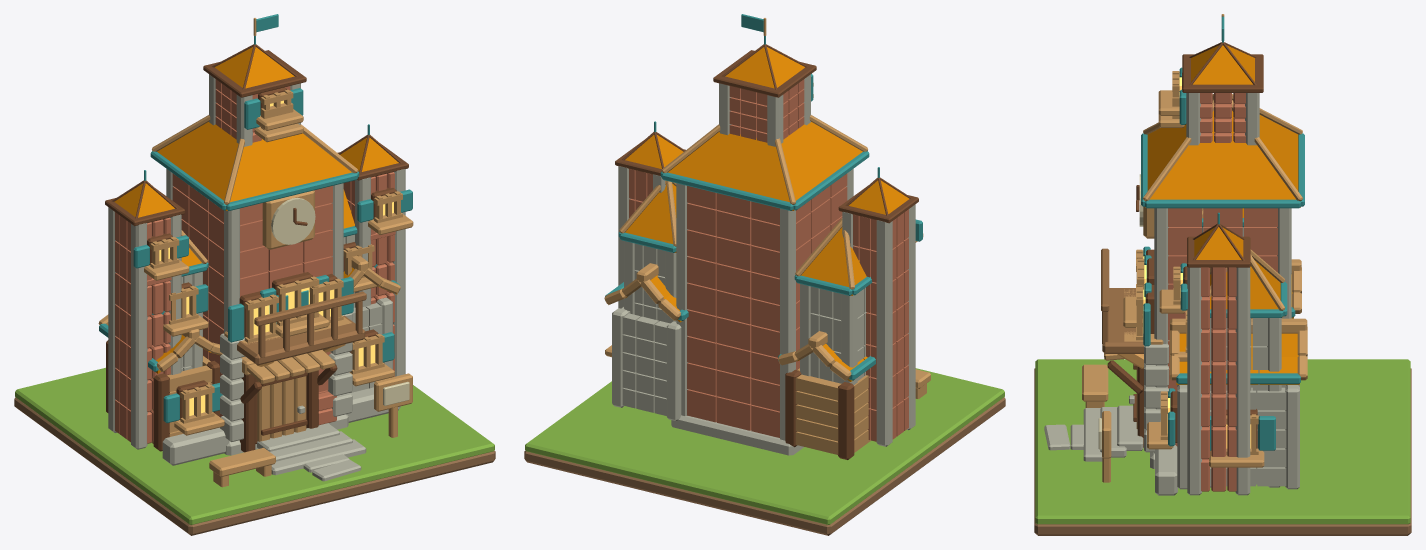
File: town_hall_l10_active_LOD0.glb
3 renders of one model, left to right at view 1: azimuth 30°, elevation 25°; view 2: azimuth 150°, elevation 25°; view 3: azimuth 270°, elevation 25°, orthographic. The views are drawn at different scales.
Visible parts, largest first — view 1: town_hall_l10_active_grass_tile, town_hall_l10_active_earth_tile, town_hall_l10_active_corner_reinforcement.024, town_hall_l10_active_hip_roof_shingle.002, town_hall_l10_active_hip_roof_shingle.011, town_hall_l10_active_premium_balcony_floor, town_hall_l10_active_corner_reinforcement.030, town_hall_l10_active_central_spire_roof_shingle, town_hall_l10_active_stone_foundation_course, town_hall_l10_active_corner_reinforcement, town_hall_l10_active_clock_face, town_hall_l10_active_corner_reinforcement.025 (+36 smaller); view 2: town_hall_l10_active_grass_tile, town_hall_l10_active_earth_tile, town_hall_l10_active_corner_reinforcement.025, town_hall_l10_active_hip_roof_shingle.008, town_hall_l10_active_corner_reinforcement.001, town_hall_l10_active_hip_roof_shingle.011, town_hall_l10_active_corner_reinforcement.003, town_hall_l10_active_foundation, town_hall_l10_active_central_spire_roof_shingle, town_hall_l10_active_hip_roof_shingle.007, town_hall_l10_active_corner_reinforcement.024, town_hall_l10_active_corner_reinforcement.009 (+50 smaller); view 3: town_hall_l10_active_grass_tile, town_hall_l10_active_earth_tile, town_hall_l10_active_hip_roof_shingle.005, town_hall_l10_active_corner_reinforcement.031, town_hall_l10_active_corner_reinforcement.030, town_hall_l10_active_hip_roof_shingle.004, town_hall_l10_active_central_spire_roof_shingle, town_hall_l10_active_corner_reinforcement.002, town_hall_l10_active_premium_balcony_floor, town_hall_l10_active_eave_trim.001, town_hall_l10_active_corner_reinforcement.011, town_hall_l10_active_central_spire_cornice (+46 smaller).
Part boxes in pixels (<box>): town_hall_l10_active_grass_tile: <box>15,367,494,524</box>; town_hall_l10_active_earth_tile: <box>14,397,495,535</box>; town_hall_l10_active_corner_reinforcement.024: <box>131,223,147,449</box>; town_hall_l10_active_hip_roof_shingle.002: <box>226,149,351,210</box>; town_hall_l10_active_hip_roof_shingle.011: <box>157,134,232,210</box>; town_hall_l10_active_premium_balcony_floor: <box>237,315,365,365</box>; town_hall_l10_active_corner_reinforcement.030: <box>392,169,405,376</box>; town_hall_l10_active_central_spire_roof_shingle: <box>215,47,294,88</box>; town_hall_l10_active_stone_foundation_course: <box>162,427,228,465</box>; town_hall_l10_active_corner_reinforcement: <box>224,208,240,441</box>; town_hall_l10_active_clock_face: <box>271,197,315,244</box>; town_hall_l10_active_corner_reinforcement.025: <box>108,207,116,432</box>; town_hall_l10_active_grass_tile: <box>525,368,1004,524</box>; town_hall_l10_active_earth_tile: <box>524,397,1005,535</box>; town_hall_l10_active_corner_reinforcement.025: <box>876,220,892,446</box>; town_hall_l10_active_hip_roof_shingle.008: <box>668,149,793,210</box>; town_hall_l10_active_corner_reinforcement.001: <box>779,208,795,440</box>; town_hall_l10_active_hip_roof_shingle.011: <box>787,134,862,210</box>; town_hall_l10_active_corner_reinforcement.003: <box>676,183,688,415</box>; town_hall_l10_active_foundation: <box>671,415,803,455</box>; town_hall_l10_active_central_spire_roof_shingle: <box>725,47,804,88</box>; town_hall_l10_active_hip_roof_shingle.007: <box>698,131,781,169</box>; town_hall_l10_active_corner_reinforcement.024: <box>907,204,915,430</box>; town_hall_l10_active_corner_reinforcement.009: <box>666,321,681,421</box>; town_hall_l10_active_grass_tile: <box>1035,359,1410,524</box>; town_hall_l10_active_earth_tile: <box>1034,368,1411,535</box>; town_hall_l10_active_hip_roof_shingle.005: <box>1145,168,1300,207</box>; town_hall_l10_active_corner_reinforcement.031: <box>1235,267,1250,495</box>; town_hall_l10_active_corner_reinforcement.030: <box>1187,267,1201,495</box>; town_hall_l10_active_hip_roof_shingle.004: <box>1172,131,1273,167</box>; town_hall_l10_active_central_spire_roof_shingle: <box>1191,45,1254,84</box>; town_hall_l10_active_corner_reinforcement.002: <box>1154,208,1168,453</box>; town_hall_l10_active_premium_balcony_floor: <box>1102,288,1143,353</box>; town_hall_l10_active_eave_trim.001: <box>1145,199,1300,208</box>; town_hall_l10_active_corner_reinforcement.011: <box>1285,385,1299,489</box>; town_hall_l10_active_central_spire_cornice: <box>1182,54,1263,92</box>.
Bounding box in the file's own units: 3.6 × 4.67 × 3.6.
